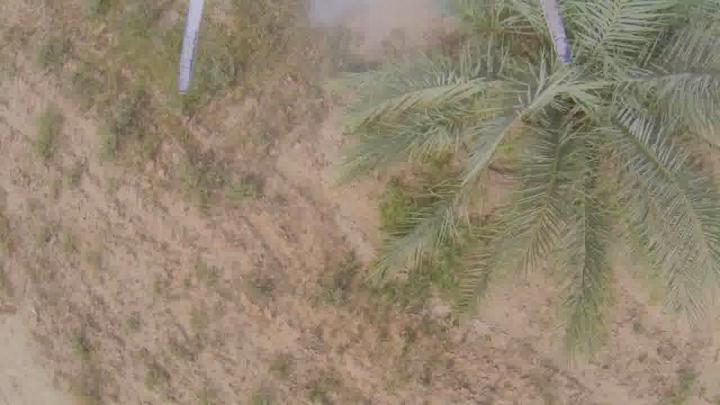Date-Palm-Crown: (420, 0, 720, 246)
